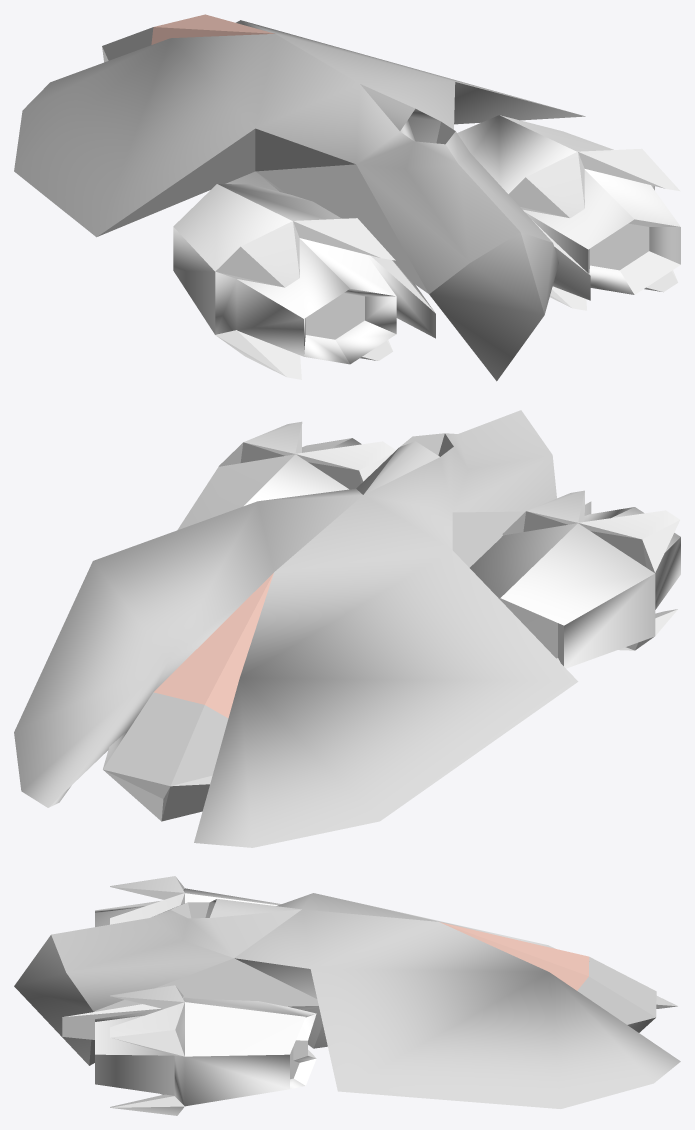
File: evmine00.glb
3 views of the same model, one above another, from view 1: azimuth 30°, elevation 25°; view 2: azimuth 150°, elevation 25°; view 3: azimuth 270°, elevation 25° (orthographic). The views are drawn at different scales.
Visible parts, largest first — view 1: body, eng_l, eng_r, flip1, flip_r3, flip3, flip_r1, flip2, cockpit; view 2: body, eng_l, eng_r, cockpit, flip1, flip_r3, flip3, flip_r1; view 3: body, eng_r, cockpit, flip_r1, eng_l, flip_r3, flip1, flip_r2, flip3.
Part boxes in pixels (<box>): body: <box>14,20,585,381</box>; eng_l: <box>173,184,435,364</box>; eng_r: <box>457,115,680,300</box>; flip1: <box>215,221,299,287</box>; flip_r3: <box>508,151,584,217</box>; flip3: <box>293,218,395,260</box>; flip_r1: <box>578,148,680,191</box>; flip2: <box>215,330,301,379</box>; cockpit: <box>151,14,274,44</box>; body: <box>14,410,578,847</box>; eng_l: <box>470,501,680,668</box>; eng_r: <box>177,438,361,530</box>; cockpit: <box>154,573,273,718</box>; flip1: <box>578,510,679,572</box>; flip_r3: <box>295,441,395,489</box>; flip3: <box>502,490,584,535</box>; flip_r1: <box>218,421,302,466</box>; body: <box>14,893,680,1108</box>; eng_r: <box>62,997,316,1106</box>; cockpit: <box>439,922,589,990</box>; flip_r1: <box>110,1002,184,1056</box>; eng_l: <box>95,888,281,926</box>; flip_r3: <box>110,985,184,1008</box>; flip1: <box>110,876,184,899</box>; flip_r2: <box>110,1094,184,1115</box>; flip3: <box>110,893,184,924</box>.
Bounding box in the file's own units: 3.68 × 1.56 × 5.54.
